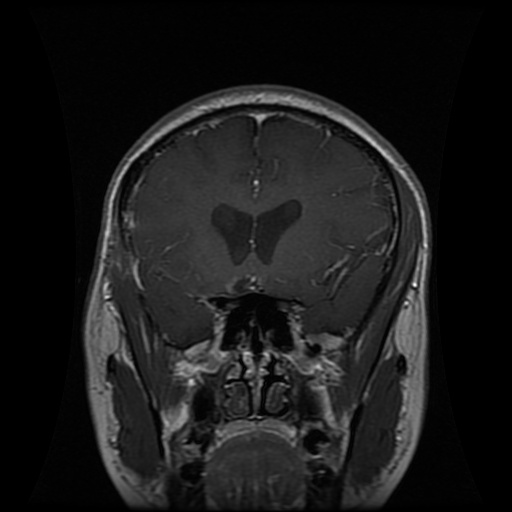glioma: (221, 271, 264, 295)
